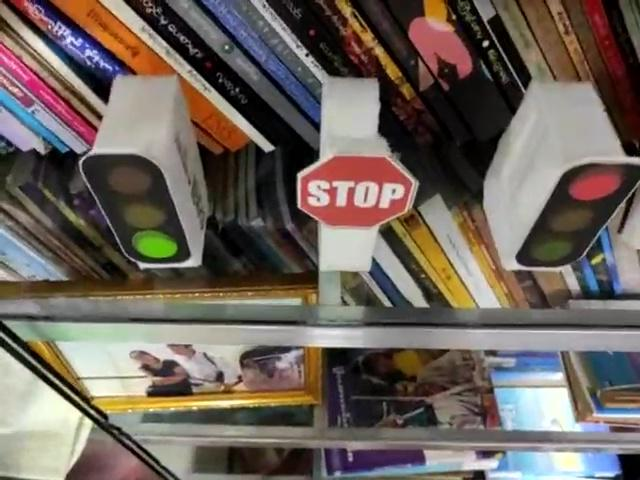Green Traffic Light: (78, 150, 192, 264)
Red Traffic Light: (515, 157, 640, 269)
Stop Sign: (298, 152, 419, 229)
